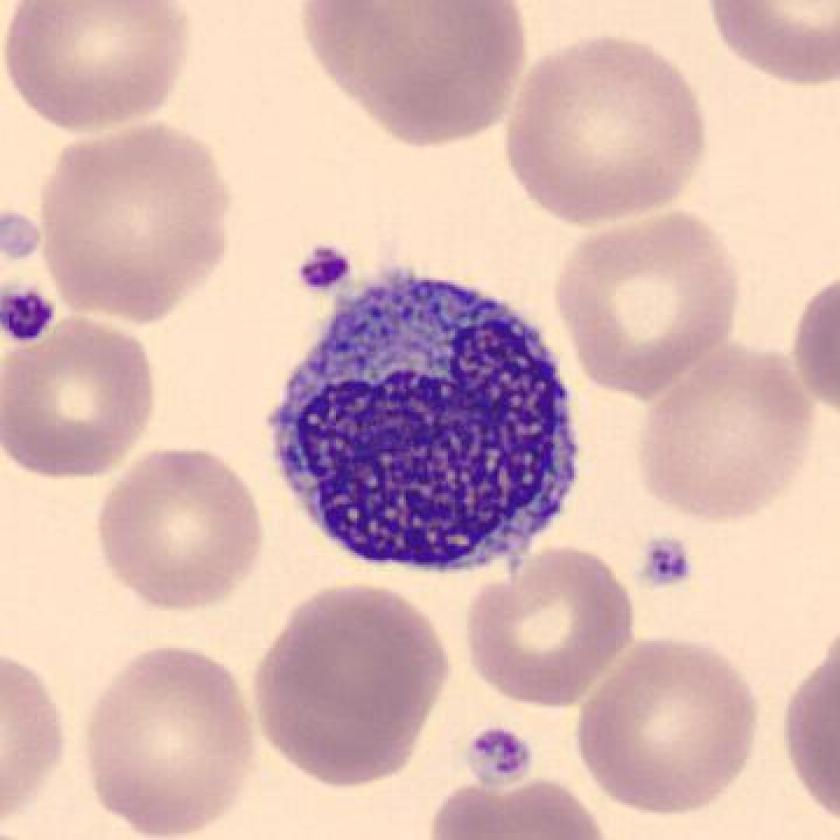monocyte: (256, 256, 599, 587)
